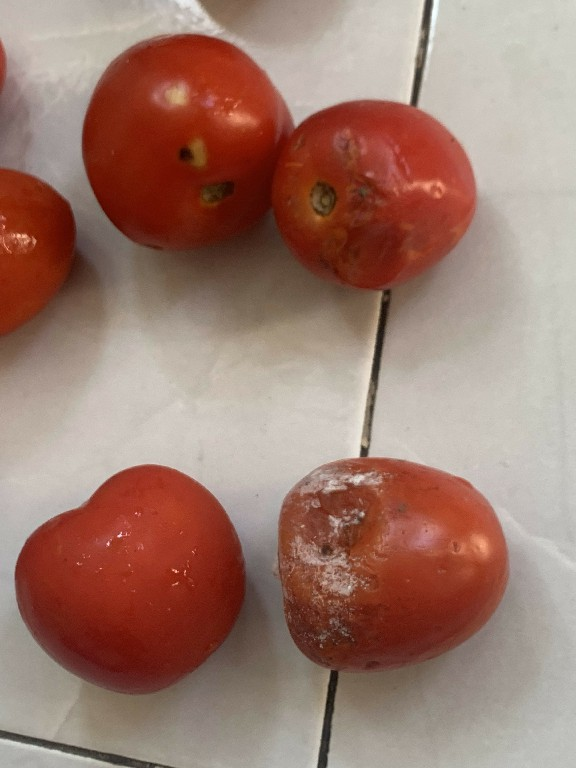NG: (271, 451, 512, 671), (81, 26, 301, 256), (274, 93, 479, 293)
OK: (10, 454, 246, 705)
